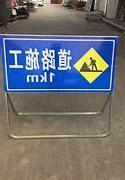sign: (2, 34, 118, 91)
